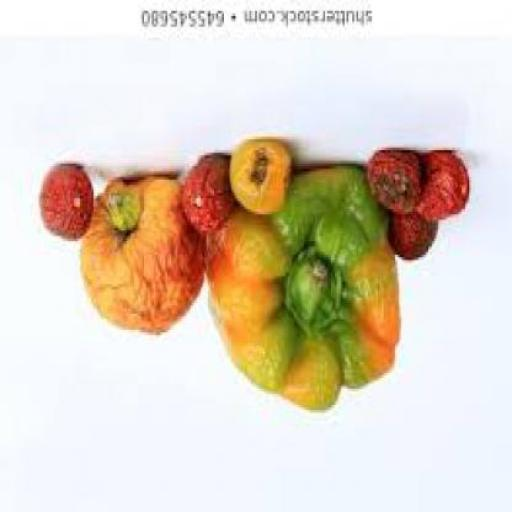biodegradable: (207, 170, 401, 416), (82, 180, 206, 337), (232, 145, 294, 222), (42, 166, 96, 244), (186, 158, 236, 238), (417, 153, 469, 222), (371, 153, 422, 220), (393, 212, 438, 266)
